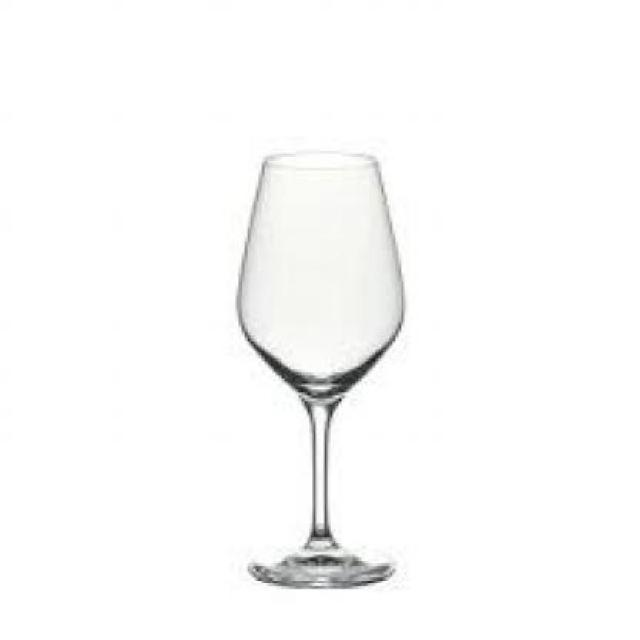kaca: (234, 151, 401, 586)
